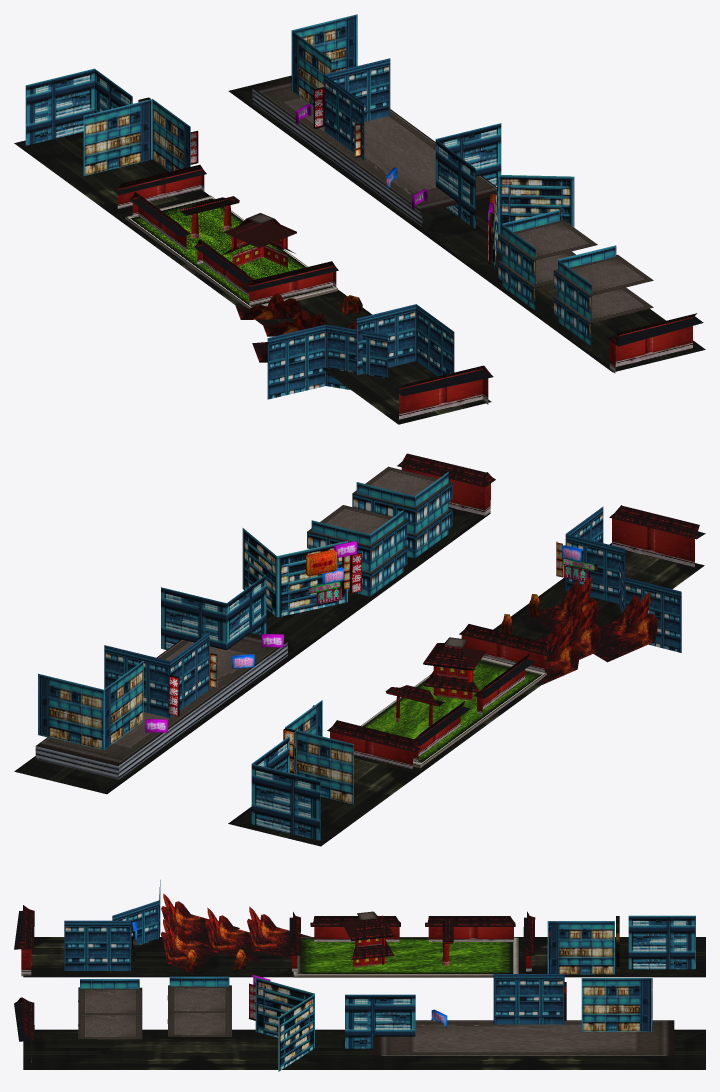
File: as_downtown_mid3.fbx
The picture shows the model from 3 angles, top to bottom: view 1: azimuth 30°, elevation 25°; view 2: azimuth 150°, elevation 25°; view 3: azimuth 270°, elevation 25°; orthographic projection. The views are drawn at different scales.
Visible parts, largest first — view 1: as_downtown_mid3; view 2: as_downtown_mid3; view 3: as_downtown_mid3.
Part boxes in pixels (bbox=[...]): as_downtown_mid3: bbox=[14, 14, 705, 424]; as_downtown_mid3: bbox=[14, 453, 705, 846]; as_downtown_mid3: bbox=[14, 880, 705, 1071].
Size of the model in its own units: 5667 by 1332 by 10139.
